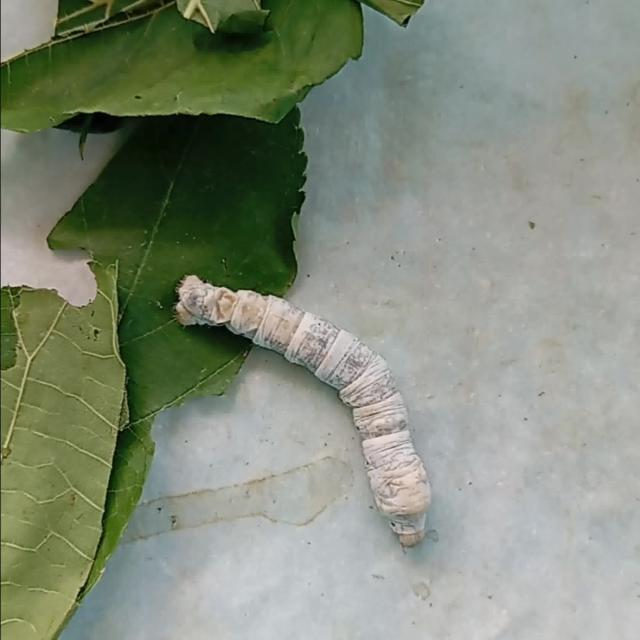Grasserie: (166, 266, 438, 564)
